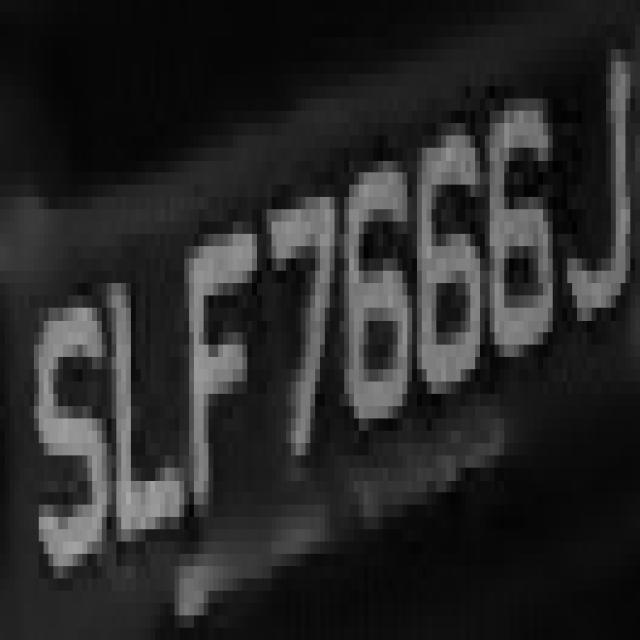6: (461, 74, 567, 431), (393, 98, 485, 431), (325, 160, 417, 468)
7: (252, 148, 340, 492)
F: (184, 172, 267, 554)
J: (548, 37, 635, 406)
L: (102, 222, 184, 590)
S: (24, 258, 107, 591)
